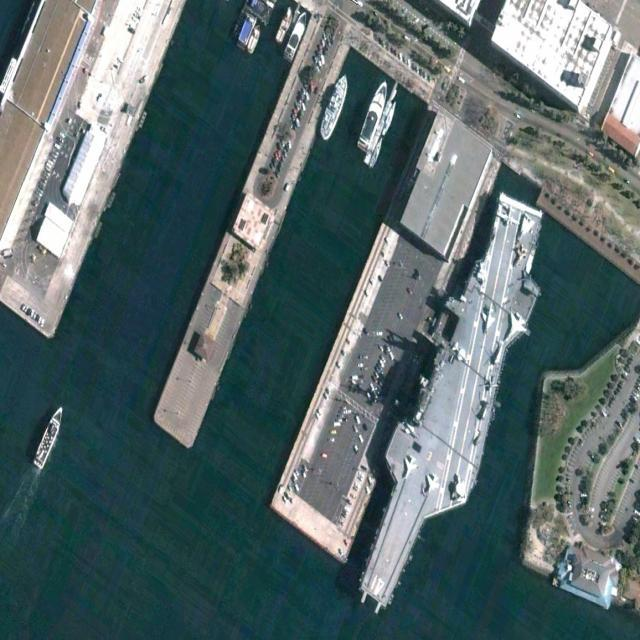Aircraft Carrier: (340, 170, 568, 634)
Other Ship: (317, 69, 353, 144), (31, 403, 66, 472), (244, 20, 264, 57)
Yacht: (356, 75, 391, 154), (283, 10, 309, 64)
